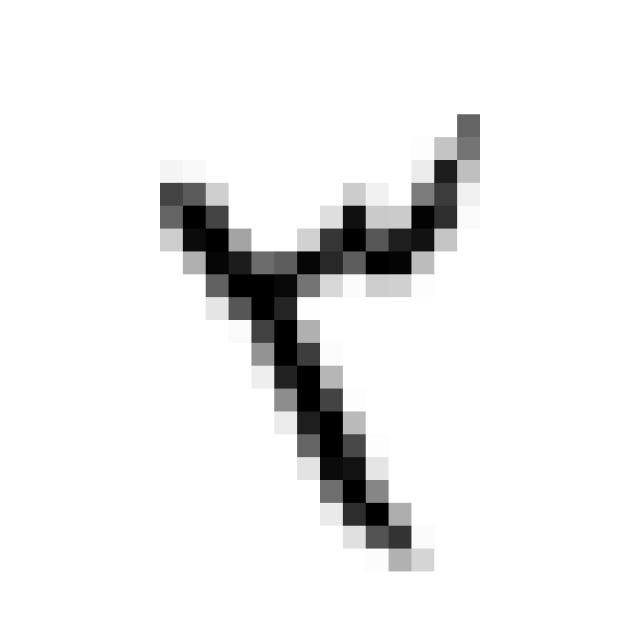3 -three-: (135, 87, 499, 579)
